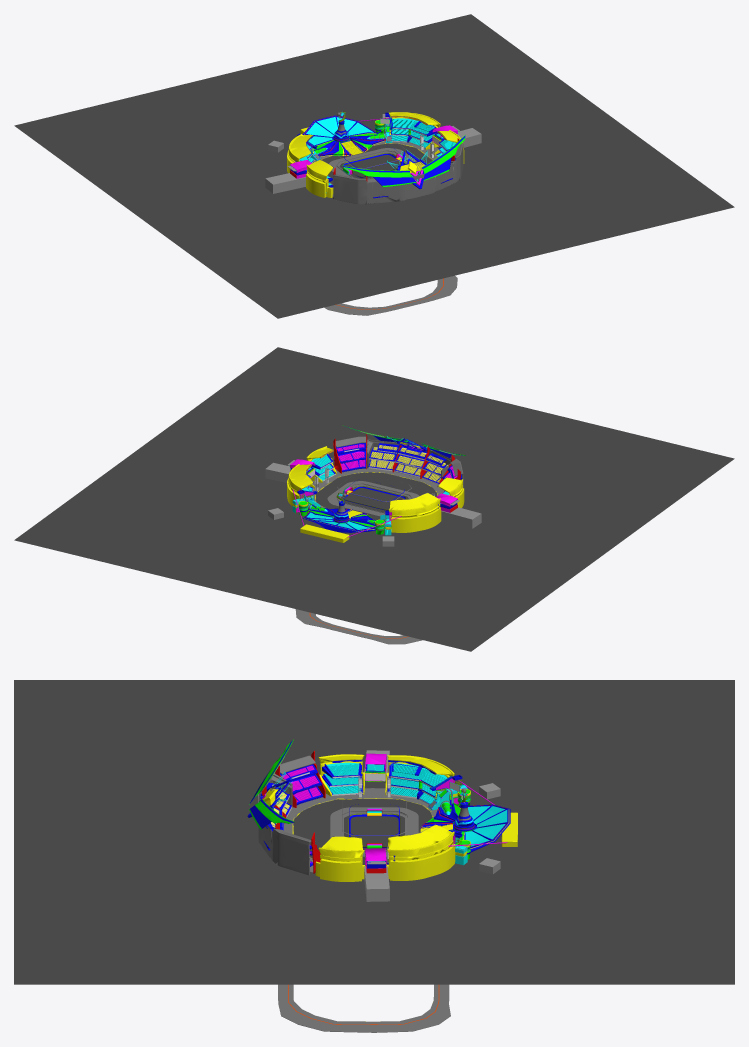
The model's file is stadium.glb.
3 renders of one model, top to bottom at view 1: azimuth 30°, elevation 25°; view 2: azimuth 150°, elevation 25°; view 3: azimuth 270°, elevation 25°, orthographic. The views are drawn at different scales.
Parts seen in each view (by area): view 1: polySurface6037_lightRank01_0, pCube41_LightEmissive_0, pCube62_seatBase.003_0, polySurface5416_sci_mid_0, polySurface5657_lambert18_0, polySurface5955_beam_main_0, polySurface6157_lambert1.003_0, polySurface5955_beam_upperLower_0; view 2: polySurface6037_lightRank01_0, polySurface5416_sci_mid_0, pCube41_LightEmissive_0, pCube62_seatBase.003_0, polySurface6157_lambert1.003_0, polySurface5657_lambert18_0, polySurface5955_beam_upperLower_0, polySurface5357_beam_glow_0, polySurface5955_beam_main_0, polySurface5416_sci_bottomFrame_0, polySurface6157_blueBanner_0; view 3: polySurface6037_lightRank01_0, pCube41_LightEmissive_0, polySurface5416_sci_mid_0, pCube62_seatBase.003_0, polySurface5657_lambert18_0, polySurface6157_lambert1.003_0, polySurface5955_beam_upperLower_0, polySurface5955_beam_main_0, polySurface5416_sci_bottomFrame_0, polySurface6157_blueBanner_0.
Boxes of the visible parts, x1,y1,x2,y2 form: polySurface6037_lightRank01_0: (14,14,734,318); pCube41_LightEmissive_0: (306,116,463,315); pCube62_seatBase.003_0: (290,112,465,198); polySurface5416_sci_mid_0: (287,112,464,197); polySurface5657_lambert18_0: (295,112,458,193); polySurface5955_beam_main_0: (308,111,465,187); polySurface6157_lambert1.003_0: (265,114,481,193); polySurface5955_beam_upperLower_0: (290,117,457,185); polySurface6037_lightRank01_0: (14,347,734,651); polySurface5416_sci_mid_0: (287,442,464,542); pCube41_LightEmissive_0: (293,436,463,644); pCube62_seatBase.003_0: (290,427,462,532); polySurface6157_lambert1.003_0: (265,443,481,546); polySurface5657_lambert18_0: (289,436,451,535); polySurface5955_beam_upperLower_0: (290,444,457,537); polySurface5357_beam_glow_0: (340,445,447,501); polySurface5955_beam_main_0: (295,425,465,534); polySurface5416_sci_bottomFrame_0: (296,434,460,530); polySurface6157_blueBanner_0: (308,448,451,496); polySurface6037_lightRank01_0: (14,680,734,984); pCube41_LightEmissive_0: (258,755,470,1032); polySurface5416_sci_mid_0: (263,754,517,1021); pCube62_seatBase.003_0: (247,740,510,868); polySurface5657_lambert18_0: (272,762,507,865); polySurface6157_lambert1.003_0: (271,750,500,901); polySurface5955_beam_upperLower_0: (262,753,507,871); polySurface5955_beam_main_0: (249,739,470,859); polySurface5416_sci_bottomFrame_0: (262,751,507,873); polySurface6157_blueBanner_0: (276,772,459,858).
Bounding box in the file's own units: 51.26 × 16.36 × 51.26.
